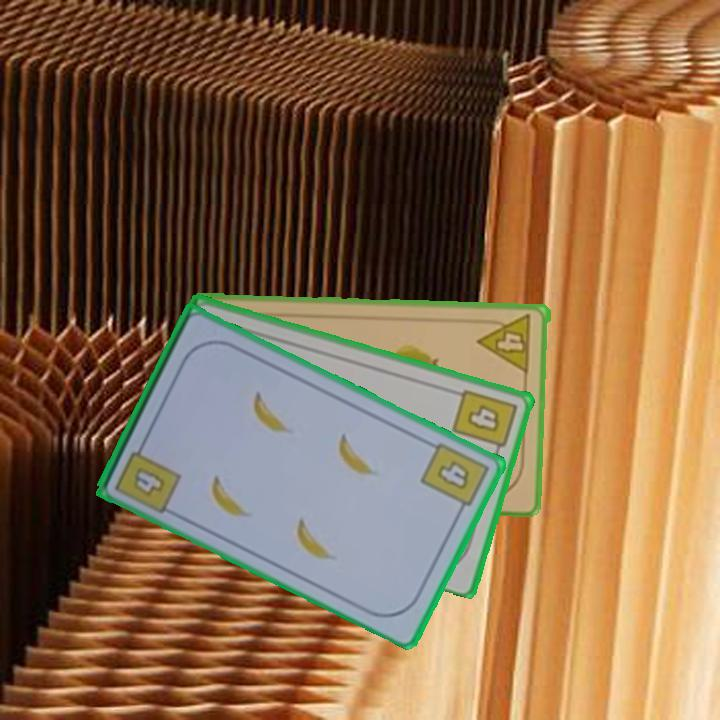4b: (417, 438, 492, 518), (111, 436, 184, 517), (448, 385, 520, 459)
4p: (476, 311, 535, 377)
